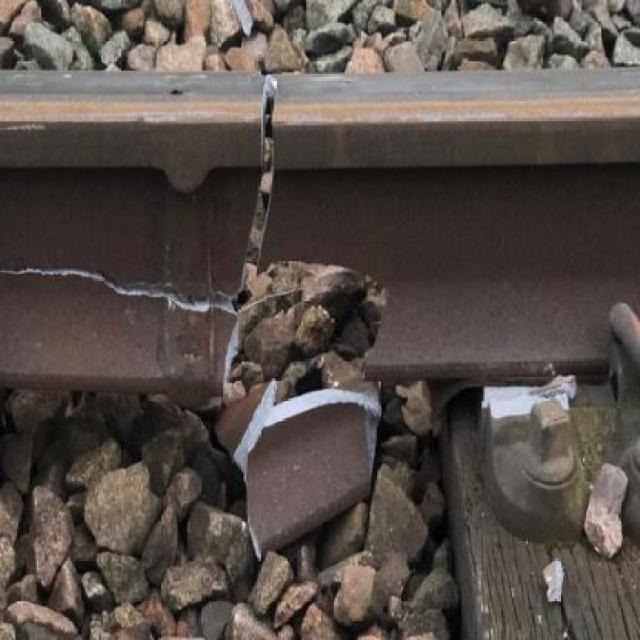defective: (8, 24, 640, 580)
